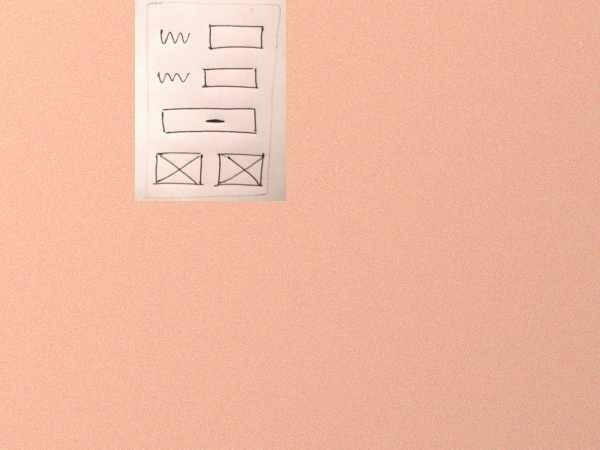button: (157, 105, 262, 139)
image: (152, 150, 205, 188), (214, 151, 265, 190)
text: (157, 26, 194, 47), (155, 68, 191, 88)
text_input: (206, 22, 266, 52), (200, 64, 262, 93)
